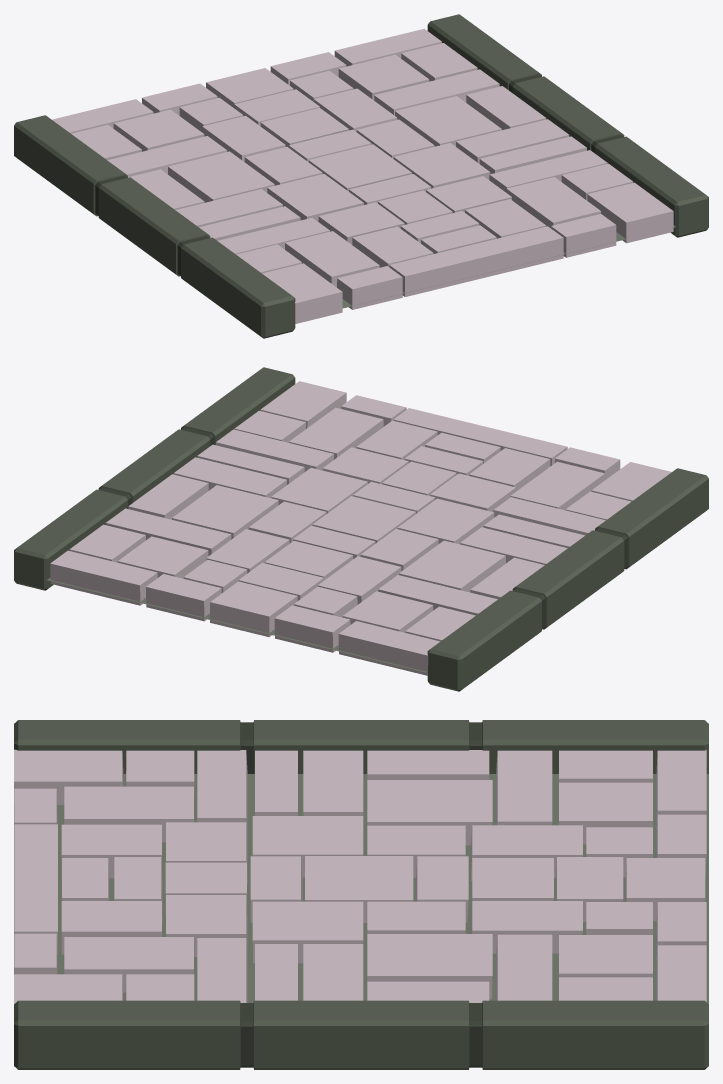
The model's file is SideWalk002.fbx.
The picture shows the model from 3 angles, top to bottom: view 1: azimuth 30°, elevation 25°; view 2: azimuth 150°, elevation 25°; view 3: azimuth 270°, elevation 25°; orthographic projection. The views are drawn at different scales.
Visible parts, largest first — view 1: SideWalk2; view 2: SideWalk2; view 3: SideWalk2.
Boxes of the visible parts, x1,y1,x2,y2 form: SideWalk2: [14, 14, 708, 338]; SideWalk2: [14, 367, 708, 691]; SideWalk2: [14, 720, 708, 1069].
Bounding box in the file's own units: 310 × 23.71 × 300.
1 material, 1 textured.
